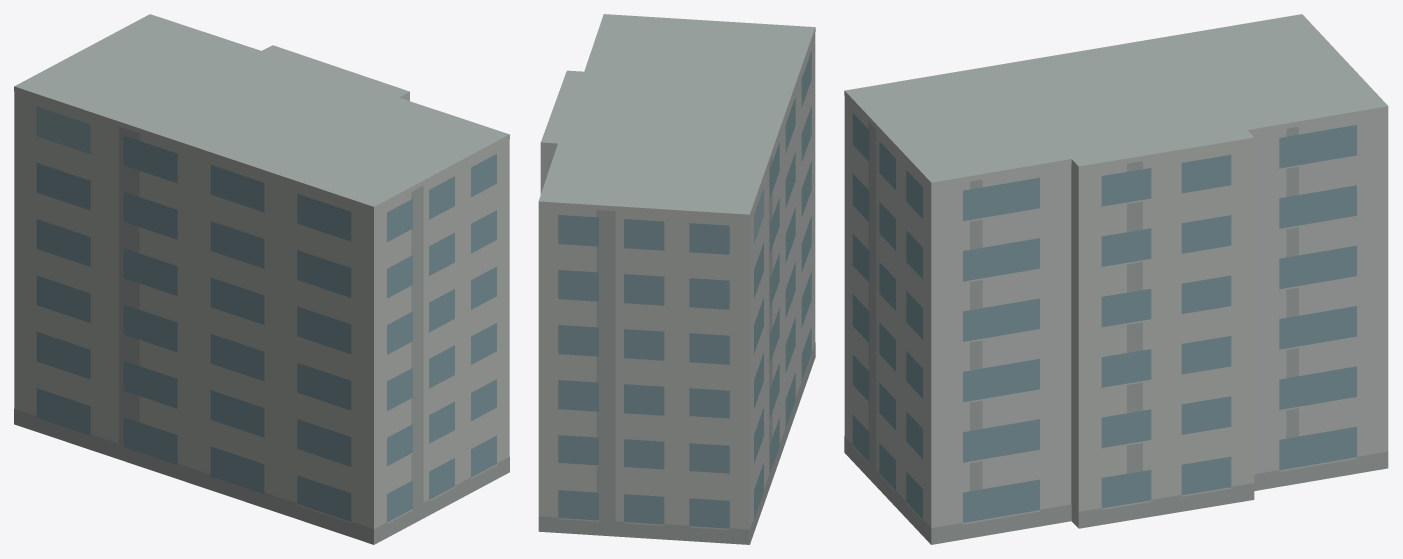
The model's file is survey-upis-32884132.glb.
3 views of the same model, side by side, from view 1: azimuth 30°, elevation 25°; view 2: azimuth 150°, elevation 25°; view 3: azimuth 270°, elevation 25° (orthographic). The views are drawn at different scales.
Parts seen in each view (by area): view 1: survey-upis-32884132.tmp; view 2: survey-upis-32884132.tmp; view 3: survey-upis-32884132.tmp.
Boxes of the visible parts, x1,y1,x2,y2 form: survey-upis-32884132.tmp: [14, 14, 509, 544]; survey-upis-32884132.tmp: [538, 14, 815, 544]; survey-upis-32884132.tmp: [844, 14, 1388, 544].
Bounding box in the file's own units: 16.69 × 16.7 × 22.73.
